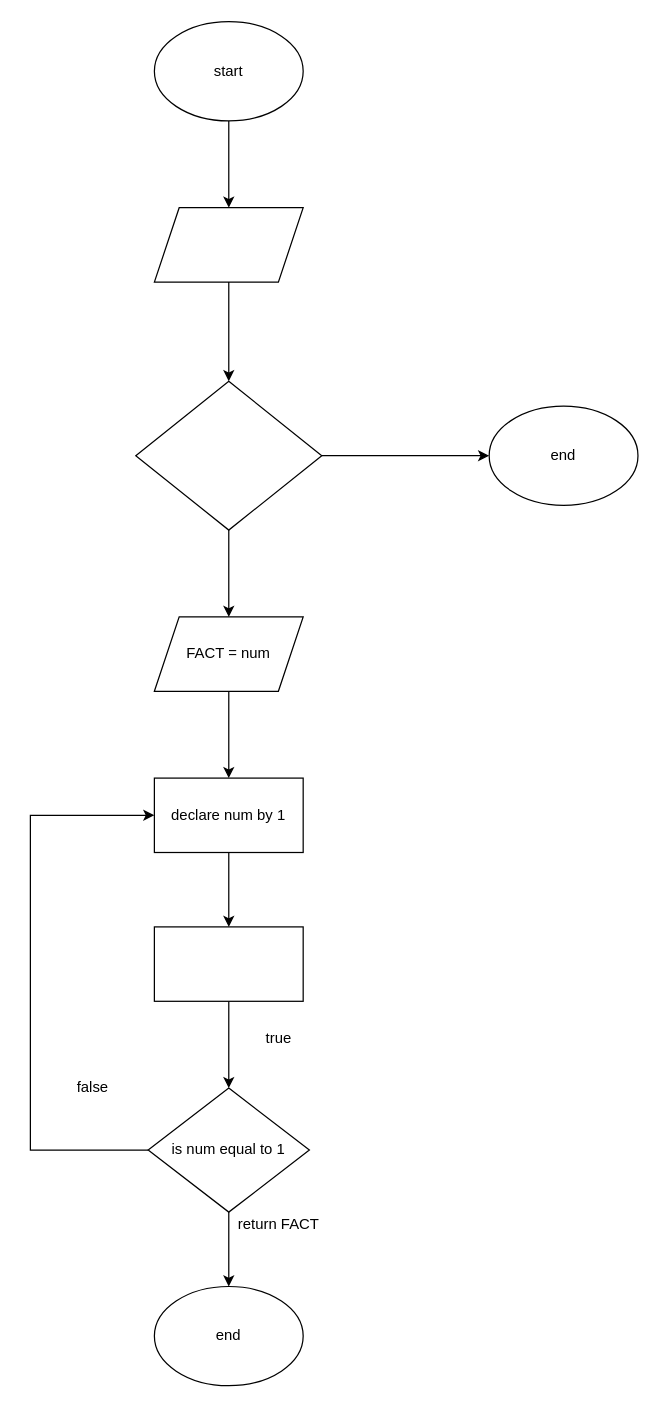
Image size: 660x1407. Some labels were removed from this diagram. The shapes that lost their labels are listed below. From the top down, each one's centre as x and y in pixels, then its label:
the point at 228,244: enter num
the point at 228,455: num is equal to 0 or 1
the point at 228,963: FACT = fACT * num
